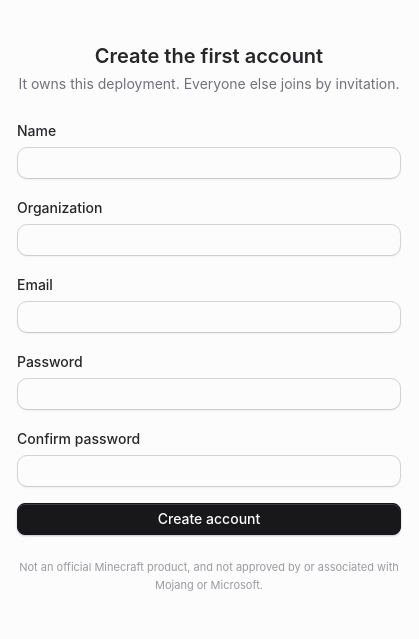
Test: the register page while this deployment has no account › creates nothing when the two passwords differ
Type "Cave Johnson" into the field labelled "Name".
click(209, 163); type("Cave Johnson")  # box [18, 148, 400, 178]
Type "Aperture Science" into the field labelled "Organization".
click(209, 240); type("Aperture Science")  # box [18, 225, 400, 255]
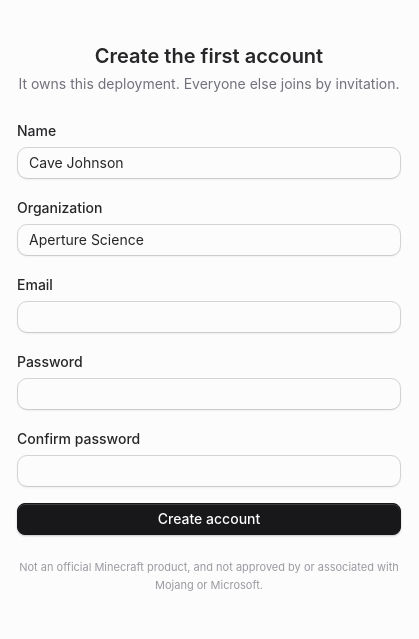
Type "cave@example.com" into the field labelled "Email".
click(209, 317); type("cave@example.com")  # box [18, 302, 400, 332]
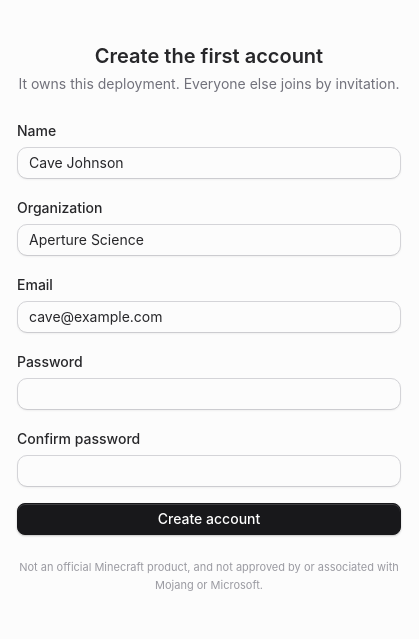
Type "correct horse battery staple" into the password field labelled "Password".
click(209, 394); type("correct horse battery staple")  # box [18, 379, 400, 409]
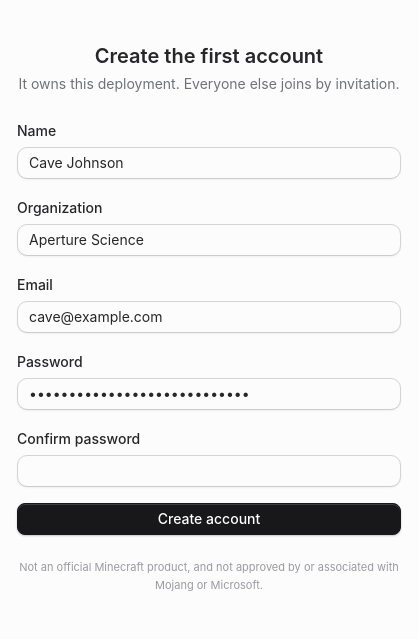
Type "correct horse battery staple" into the password field labelled "Confirm password".
click(209, 471); type("correct horse battery staple")  # box [18, 456, 400, 486]
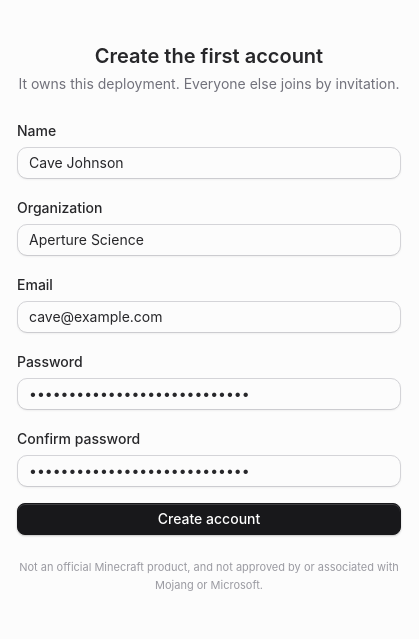
Type "correct horse battery stapl" into the password field labelled "Confirm password".
click(209, 471); type("correct horse battery stapl")  # box [18, 456, 400, 486]
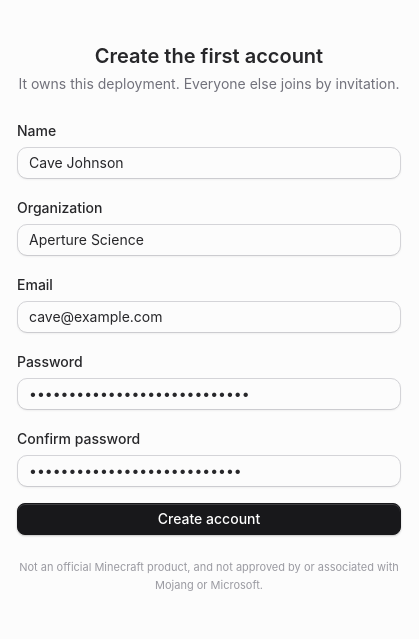
Click the button "Create account".
click(209, 519)  # box [17, 503, 401, 535]
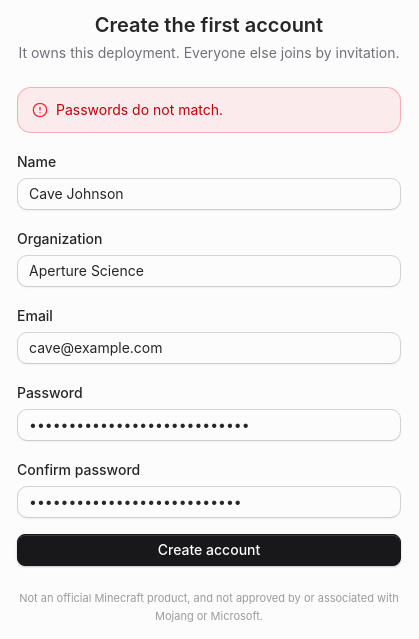
Expected: the text "Passwords do not match." is shown, [56, 101, 223, 118]
